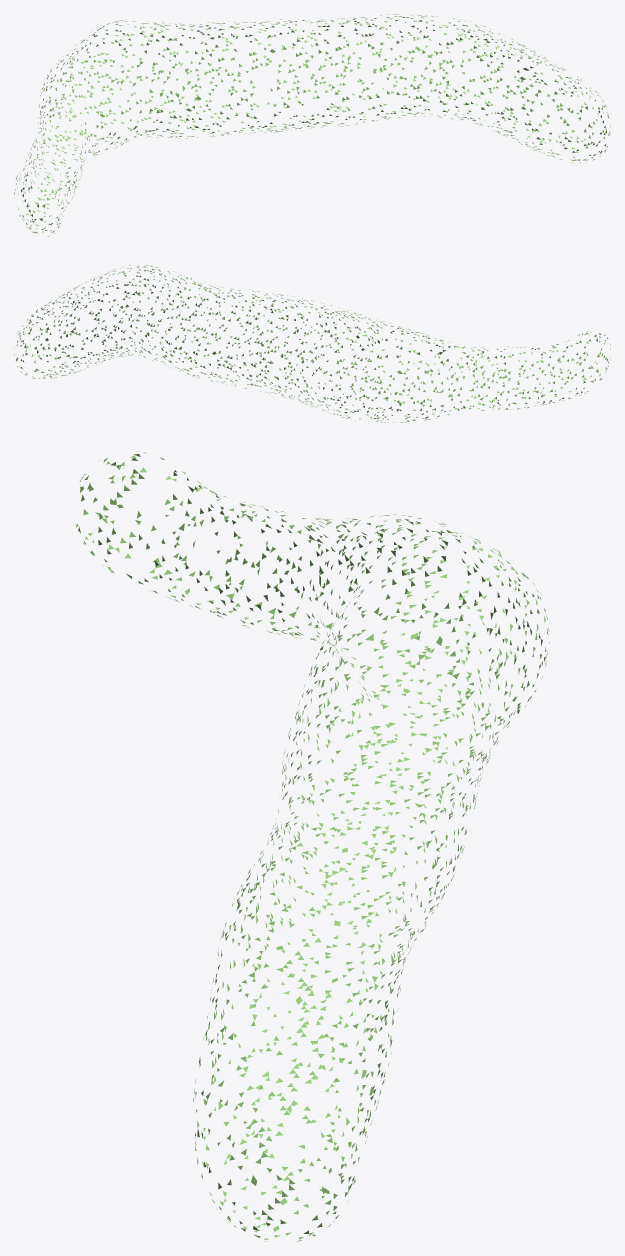
Rendered from morph_014.glb.
The picture shows the model from 3 angles, top to bottom: view 1: azimuth 30°, elevation 25°; view 2: azimuth 150°, elevation 25°; view 3: azimuth 270°, elevation 25°; orthographic projection. The views are drawn at different scales.
Size of the model in its own units: 131 by 39.79 by 49.49.
